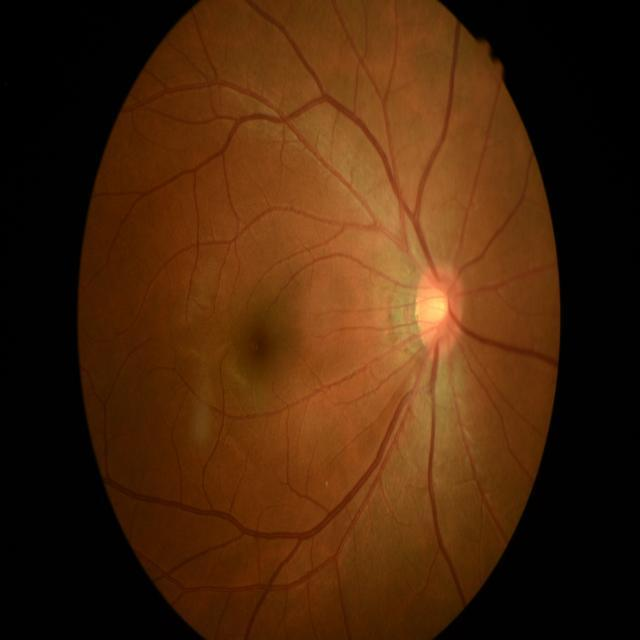cup: (423, 284, 449, 338)
disk: (415, 262, 465, 356)
